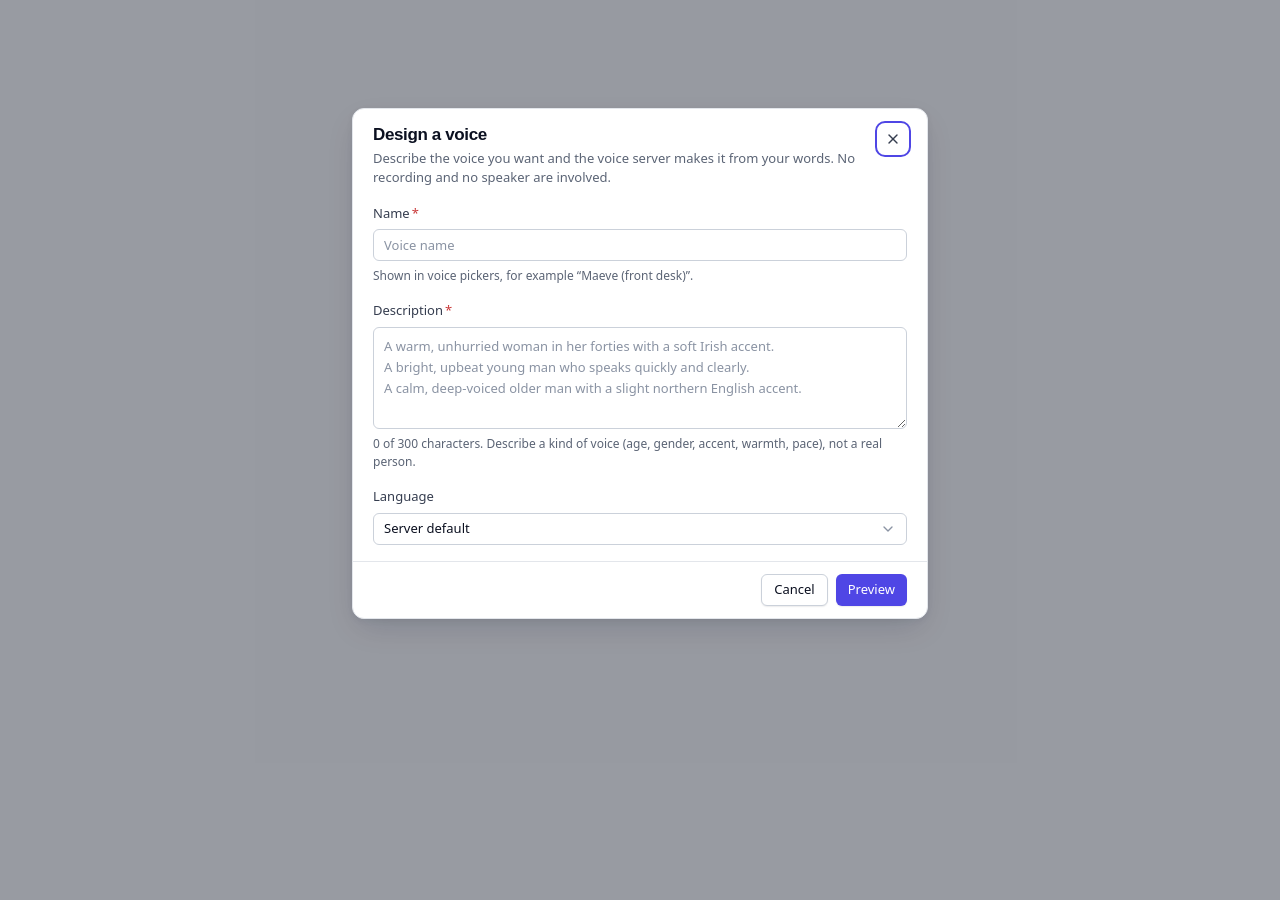
DesignVoiceDialog › shows every problem and sends nothing until the form is complete
The image size is (1280, 900).
Expected: the text box with placeholder "soft Irish accent" is empty, [373,326,907,429]
Expected: the text "Language" is shown, [373,487,434,505]
Click the button "Preview" at coordinates (871, 590), box [836,574,907,606]
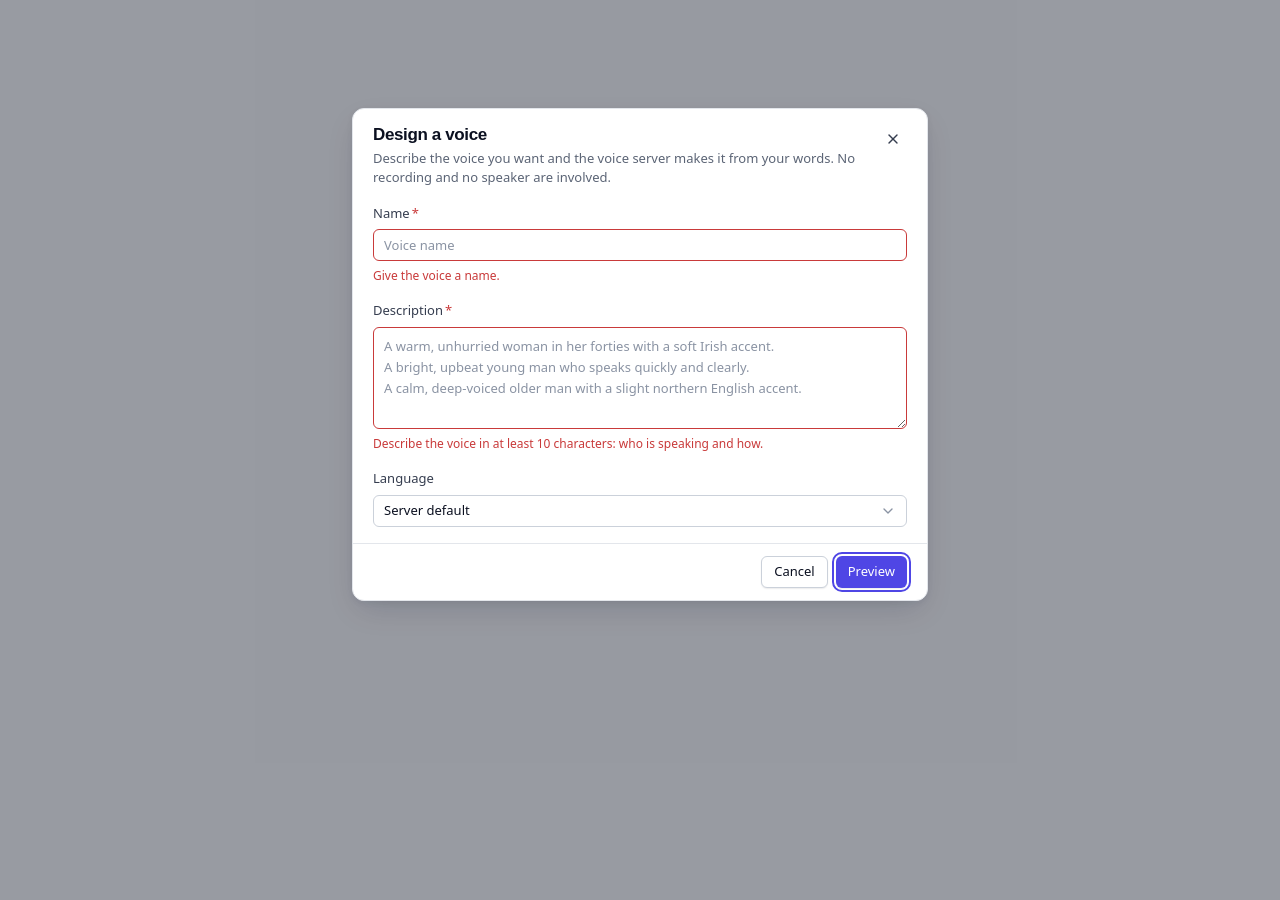
Now the text "Give the voice a name." is shown, box [373,267,500,284]
Now the text "Describe the voice in at least 10 characters: who is speaking and how." is shown, box [373,435,763,452]
